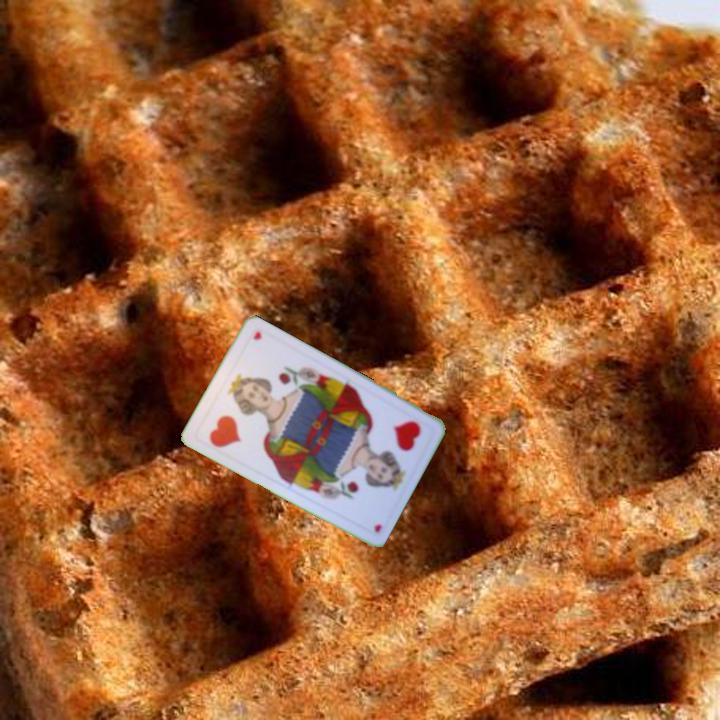h_q.png: (355, 399, 436, 484), (191, 379, 272, 464)
